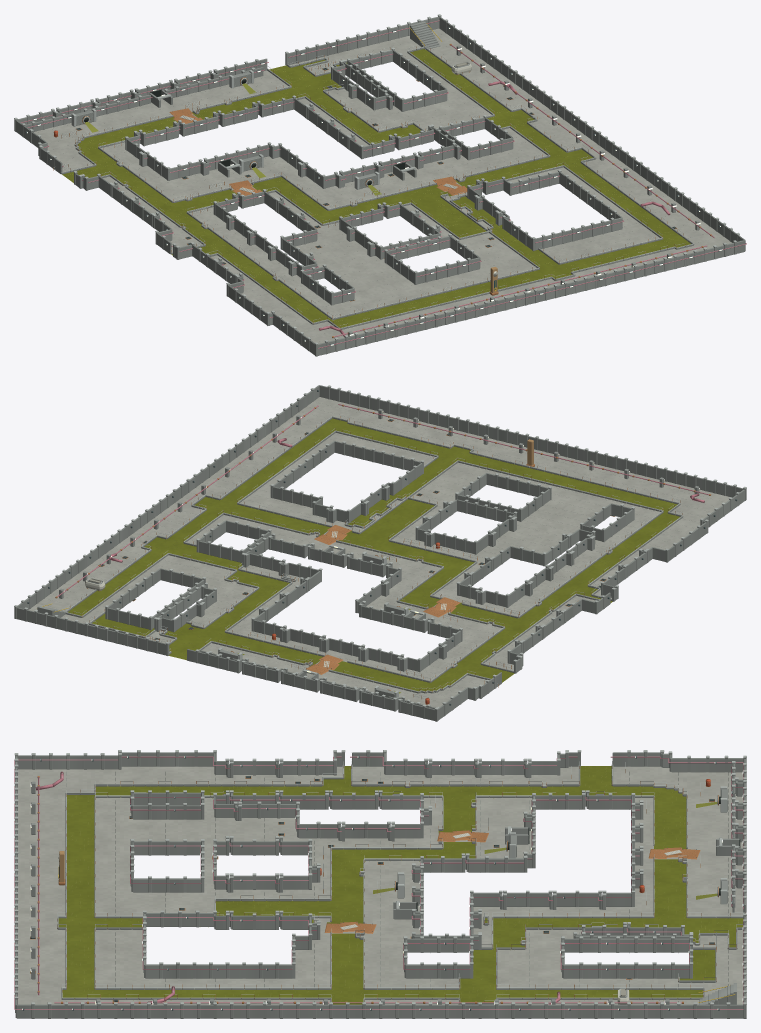
The model's file is terrain-props.glb.
The picture shows the model from 3 angles, top to bottom: view 1: azimuth 30°, elevation 25°; view 2: azimuth 150°, elevation 25°; view 3: azimuth 270°, elevation 25°; orthographic projection. The views are drawn at different scales.
Parts seen in each view (by area): view 1: hm11-opaque-chunk-0-0, hm11-opaque-chunk-1-0, hm11-opaque-chunk-3-2, hm11-opaque-chunk-2-0, hm11-opaque-chunk-1-4, hm11-opaque-chunk-1-3, hm11-opaque-chunk-4-0, hm11-opaque-chunk-0-4, hm11-opaque-chunk-0-3, hm11-opaque-chunk-2-4, hm11-opaque-chunk-2-2, hm11-opaque-chunk-4-2 (+41 smaller); view 2: hm11-opaque-chunk-1-0, hm11-opaque-chunk-2-0, hm11-opaque-chunk-0-0, hm11-opaque-chunk-1-4, hm11-opaque-chunk-1-3, hm11-opaque-chunk-0-3, hm11-opaque-chunk-0-4, hm11-opaque-chunk-3-2, hm11-opaque-chunk-4-0, hm11-opaque-chunk-3-1, hm11-opaque-chunk-0-1, hm11-opaque-chunk-3-0 (+48 smaller); view 3: hm11-opaque-chunk-0-4, hm11-opaque-chunk-0-0, hm11-opaque-chunk-1-4, hm11-opaque-chunk-1-3, hm11-opaque-chunk-3-1, hm11-opaque-chunk-0-2, hm11-opaque-chunk-0-3, hm11-opaque-chunk-4-0, hm11-opaque-chunk-0-1, hm11-opaque-chunk-4-1, hm11-opaque-chunk-4-2, hm11-opaque-chunk-1-0 (+53 smaller).
Boxes of the visible parts, box(x1,y1,x2,y2) form: hm11-opaque-chunk-0-0: box(14, 102, 134, 174); hm11-opaque-chunk-1-0: box(82, 82, 208, 146); hm11-opaque-chunk-3-2: box(360, 128, 479, 193); hm11-opaque-chunk-2-0: box(161, 64, 293, 130); hm11-opaque-chunk-1-4: box(304, 249, 436, 314); hm11-opaque-chunk-1-3: box(280, 212, 390, 270); hm11-opaque-chunk-4-0: box(319, 24, 445, 97); hm11-opaque-chunk-0-4: box(228, 269, 354, 335); hm11-opaque-chunk-0-3: box(172, 225, 303, 296); hm11-opaque-chunk-2-4: box(382, 233, 517, 294); hm11-opaque-chunk-2-2: box(274, 157, 399, 210); hm11-opaque-chunk-4-2: box(432, 115, 550, 173); hm11-opaque-chunk-1-0: box(292, 638, 417, 705); hm11-opaque-chunk-2-0: box(208, 620, 338, 685); hm11-opaque-chunk-0-0: box(370, 654, 501, 721); hm11-opaque-chunk-1-4: box(517, 484, 641, 536); hm11-opaque-chunk-1-3: box(462, 511, 592, 571); hm11-opaque-chunk-0-3: box(537, 530, 668, 601); hm11-opaque-chunk-0-4: box(593, 505, 718, 560); hm11-opaque-chunk-3-2: box(247, 529, 372, 581); hm11-opaque-chunk-4-0: box(54, 583, 190, 647); hm11-opaque-chunk-3-1: box(188, 553, 320, 622); hm11-opaque-chunk-0-1: box(427, 623, 543, 679); hm11-opaque-chunk-3-0: box(135, 597, 265, 665); hm11-opaque-chunk-0-4: box(80, 750, 215, 811); hm11-opaque-chunk-0-0: box(608, 750, 746, 812); hm11-opaque-chunk-1-4: box(94, 796, 215, 858); hm11-opaque-chunk-1-3: box(212, 796, 347, 859); hm11-opaque-chunk-3-1: box(473, 890, 617, 949); hm11-opaque-chunk-0-2: box(344, 750, 479, 811); hm11-opaque-chunk-0-3: box(209, 750, 352, 809); hm11-opaque-chunk-4-0: box(610, 933, 746, 995); hm11-opaque-chunk-0-1: box(476, 750, 616, 811); hm11-opaque-chunk-4-1: box(478, 933, 616, 989); hm11-opaque-chunk-4-2: box(363, 933, 478, 989); hm11-opaque-chunk-1-0: box(631, 796, 746, 859).
Bounding box in the file's own units: 63.29 × 3.62 × 76.85.
3 materials, 2 textured.
